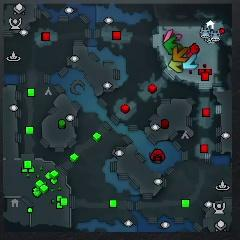x1: (164, 31, 183, 42)
x2: (168, 58, 182, 73)
x3: (181, 53, 198, 71)
x4: (163, 36, 183, 55)
x5: (171, 46, 189, 63)
